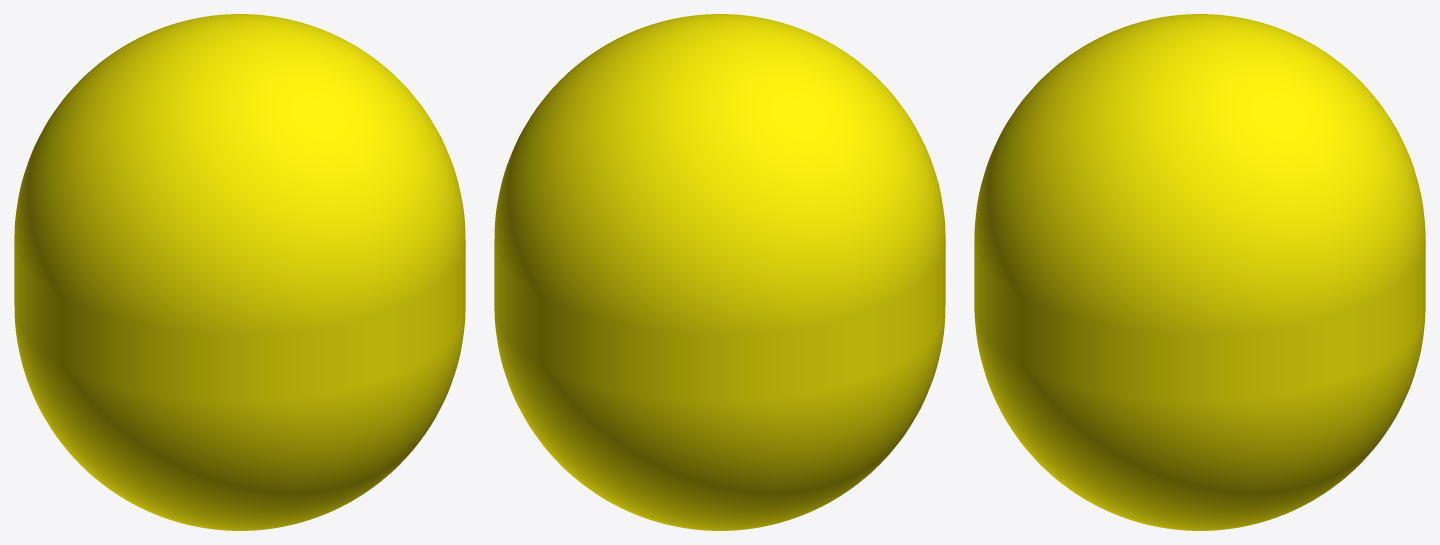
File: Yellow Bullet.fbx
3 renders of one model, left to right at view 1: azimuth 30°, elevation 25°; view 2: azimuth 150°, elevation 25°; view 3: azimuth 270°, elevation 25°, orthographic.
Parts seen in each view (by area): view 1: root; view 2: root; view 3: root.
Part boxes in pixels (x1,y1,x2,y2): root: (14, 14, 465, 530); root: (494, 14, 945, 530); root: (974, 14, 1425, 530).
Bounding box in the file's own units: 0.1399 × 0.1624 × 0.1399.
1 material, 1 textured.
